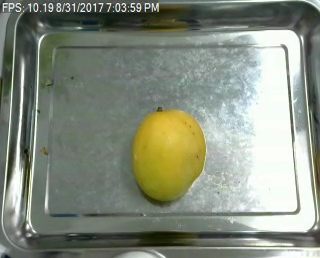Mango: (131, 102, 209, 204)
